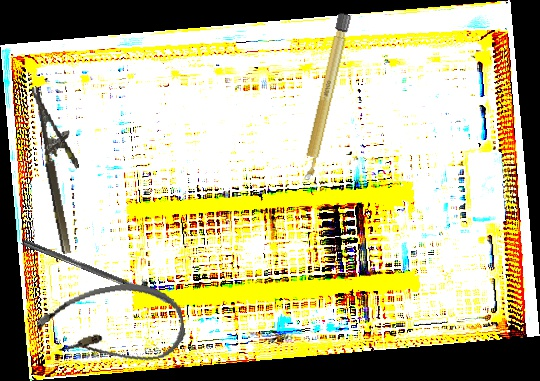Cannula: (32, 273, 190, 381)
Needle Holder: (31, 81, 94, 255)
Scalpel Handle: (299, 12, 352, 182)
Surgical Spoon: (20, 238, 175, 307)
